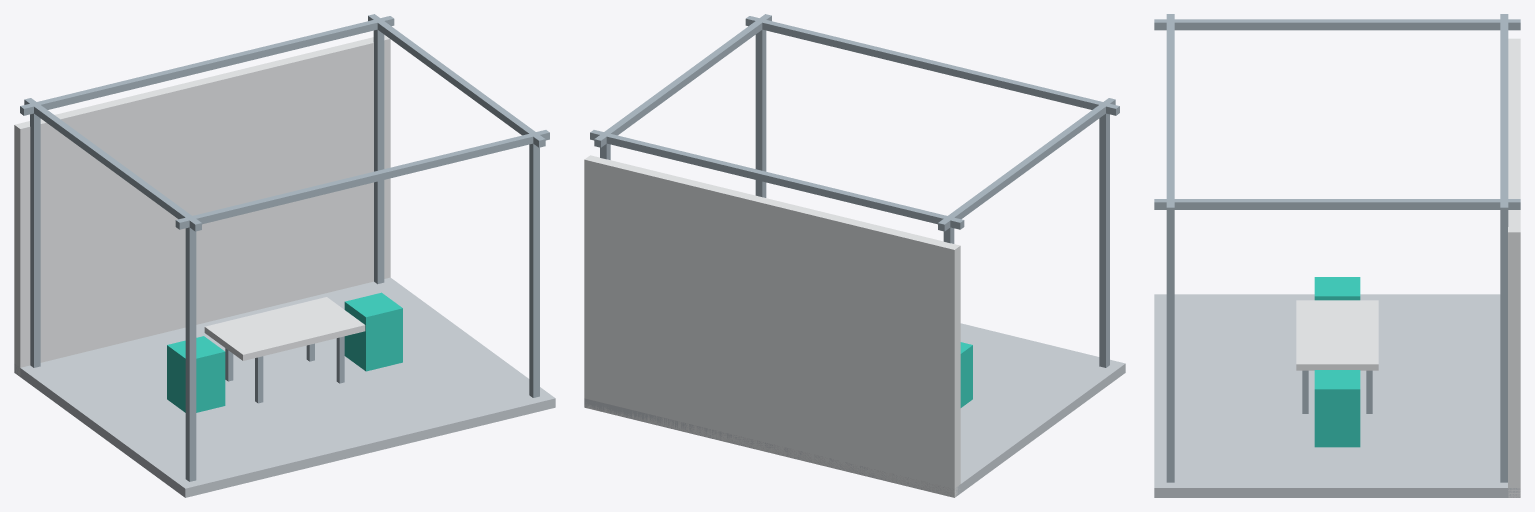
The picture shows the model from 3 angles, left to right: view 1: azimuth 30°, elevation 25°; view 2: azimuth 150°, elevation 25°; view 3: azimuth 270°, elevation 25°; orthographic projection. The views are drawn at different scales.
Visible parts, largest first — view 1: Exhibition Booth Concept; view 2: Exhibition Booth Concept; view 3: Exhibition Booth Concept.
Boxes of the visible parts, x1,y1,x2,y2 form: Exhibition Booth Concept: (14, 14, 555, 497); Exhibition Booth Concept: (584, 14, 1125, 497); Exhibition Booth Concept: (1154, 14, 1520, 497).
Size of the model in its own units: 5 by 3.49 by 4.
